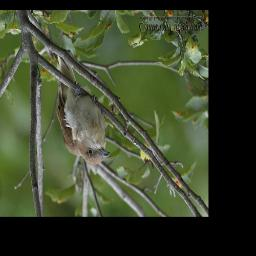Cuckoo: (55, 55, 110, 167)
